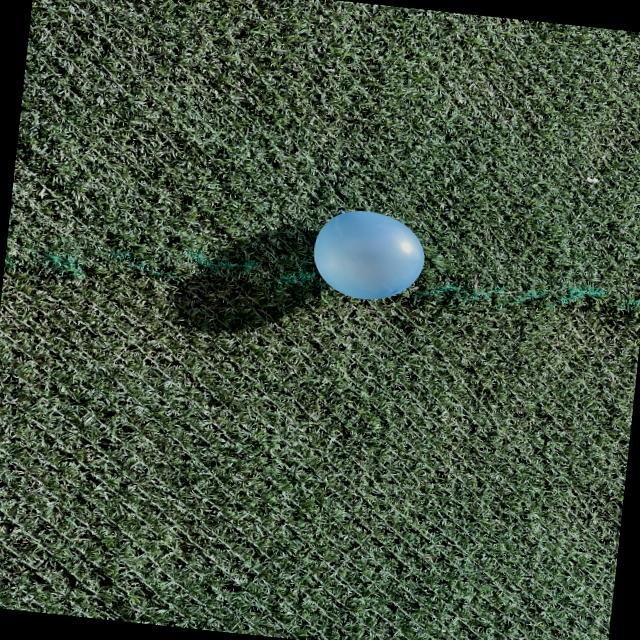balloon: (314, 211, 424, 299)
